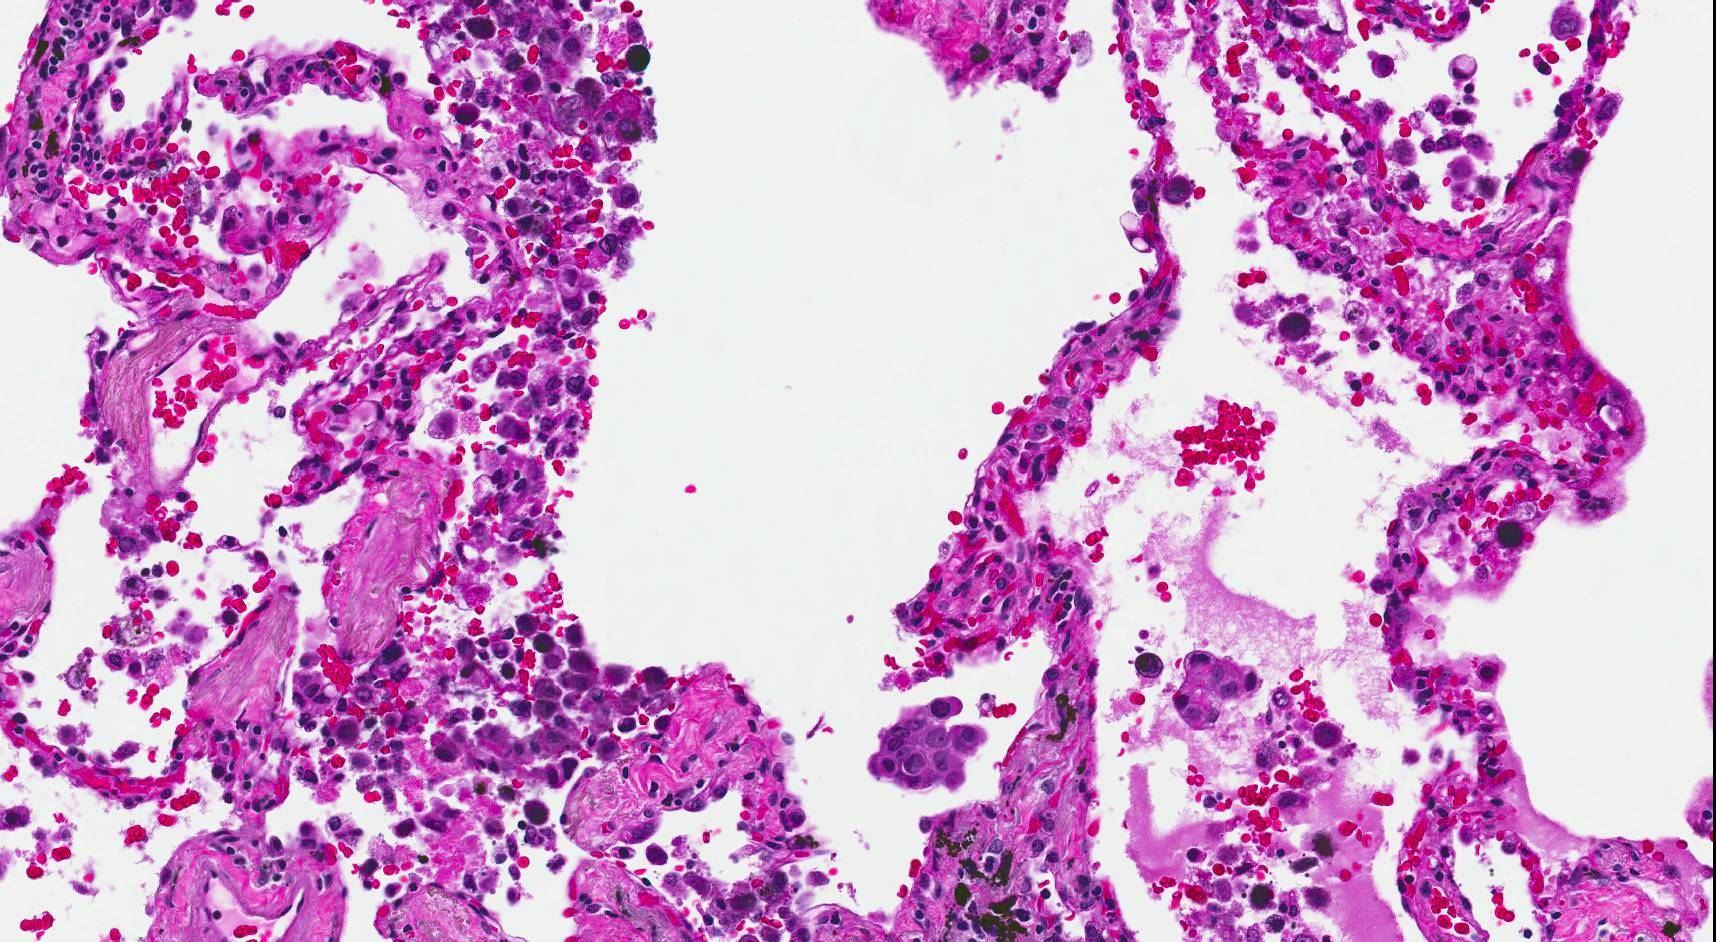stas: (867, 694, 993, 793), (1174, 647, 1265, 736)
